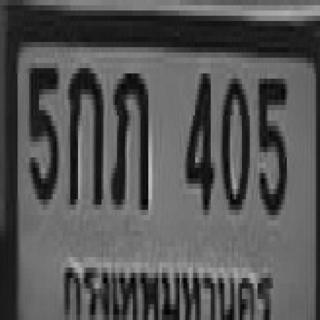A01: (66, 63, 104, 208)
A32: (109, 68, 149, 211)
N00: (220, 74, 250, 212)
N04: (183, 68, 213, 210)
N05: (256, 74, 288, 218), (27, 63, 59, 202)
P04: (54, 242, 278, 320)
